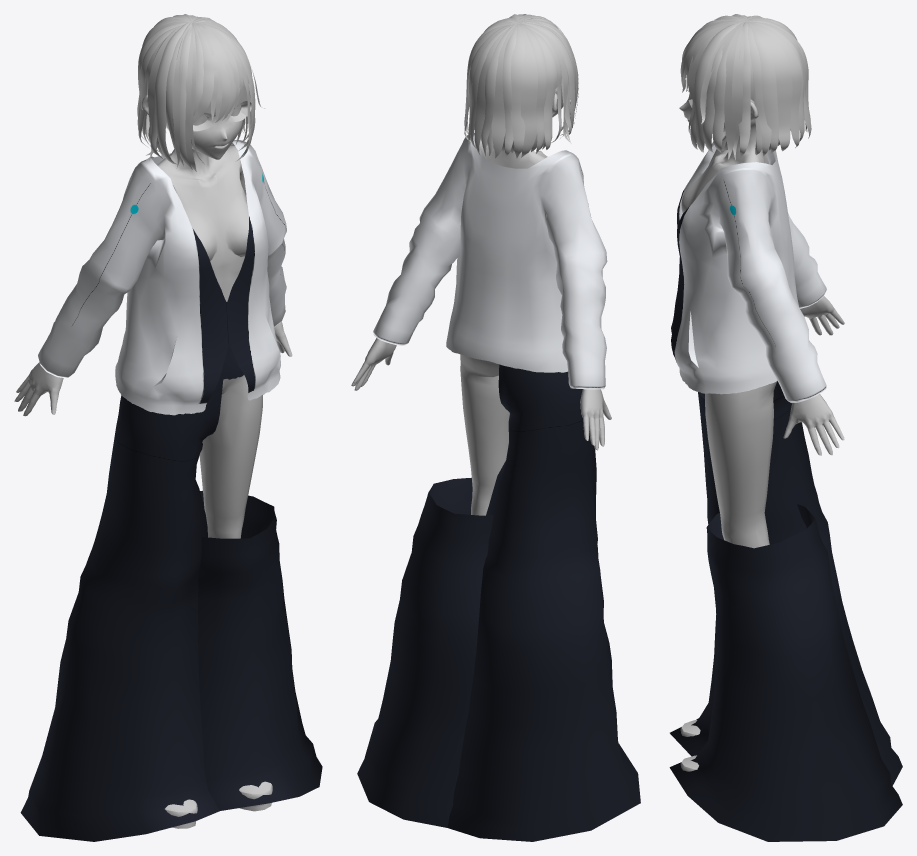
Rendered from female_researcher.obj.
The picture shows the model from 3 angles, left to right: view 1: azimuth 30°, elevation 25°; view 2: azimuth 150°, elevation 25°; view 3: azimuth 270°, elevation 25°; orthographic projection. The views are drawn at different scales.
Visible parts, largest first — view 1: Body.baked, Hair001.baked, Face.baked; view 2: Body.baked, Hair001.baked; view 3: Body.baked, Hair001.baked.
Part boxes in pixels (x1=…): Body.baked: x1=14, y1=37, x2=322, y2=841; Hair001.baked: x1=137, y1=14, x2=265, y2=171; Face.baked: x1=141, y1=78, x2=251, y2=159; Body.baked: x1=351, y1=19, x2=640, y2=841; Hair001.baked: x1=464, y1=14, x2=578, y2=158; Body.baked: x1=669, y1=60, x2=902, y2=841; Hair001.baked: x1=680, y1=14, x2=811, y2=159.
Bounding box in the file's own units: 0.5962 × 1.62 × 0.4442.
